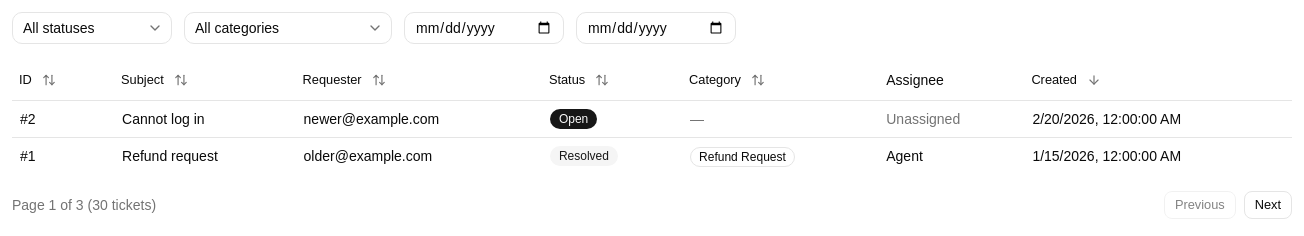
Scenario: TicketsTable › resets to page 1 when the date range changes while on a later page
The width and height of the screenshot is (1304, 236).
Expected: the table is shown, [12, 60, 1292, 174]
Click the button "Next" at x=1268, y=204, box [1244, 190, 1292, 218]
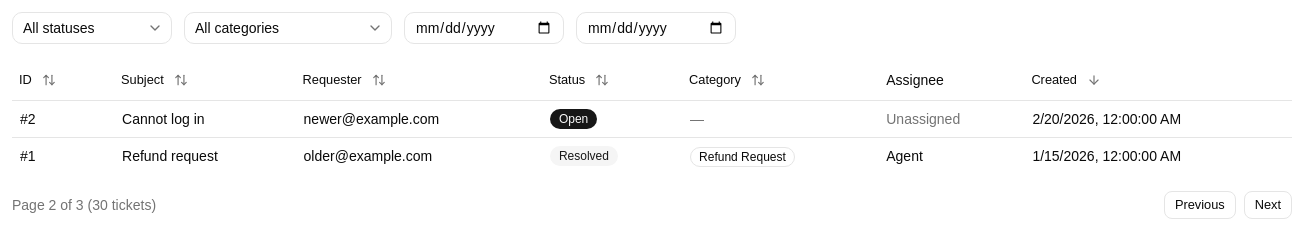
Now the text "Page 2 of 3 (30 tickets)" is shown, box [12, 194, 156, 214]
Type "2026-01-01" into the date field named "Filter by created from date" at x=484, y=28, box [404, 12, 564, 44]
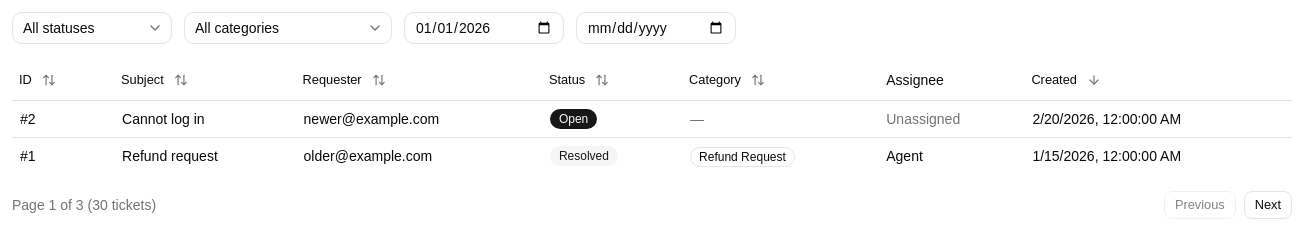
Now the text "Page 1 of 3 (30 tickets)" is shown, box [12, 194, 156, 214]
